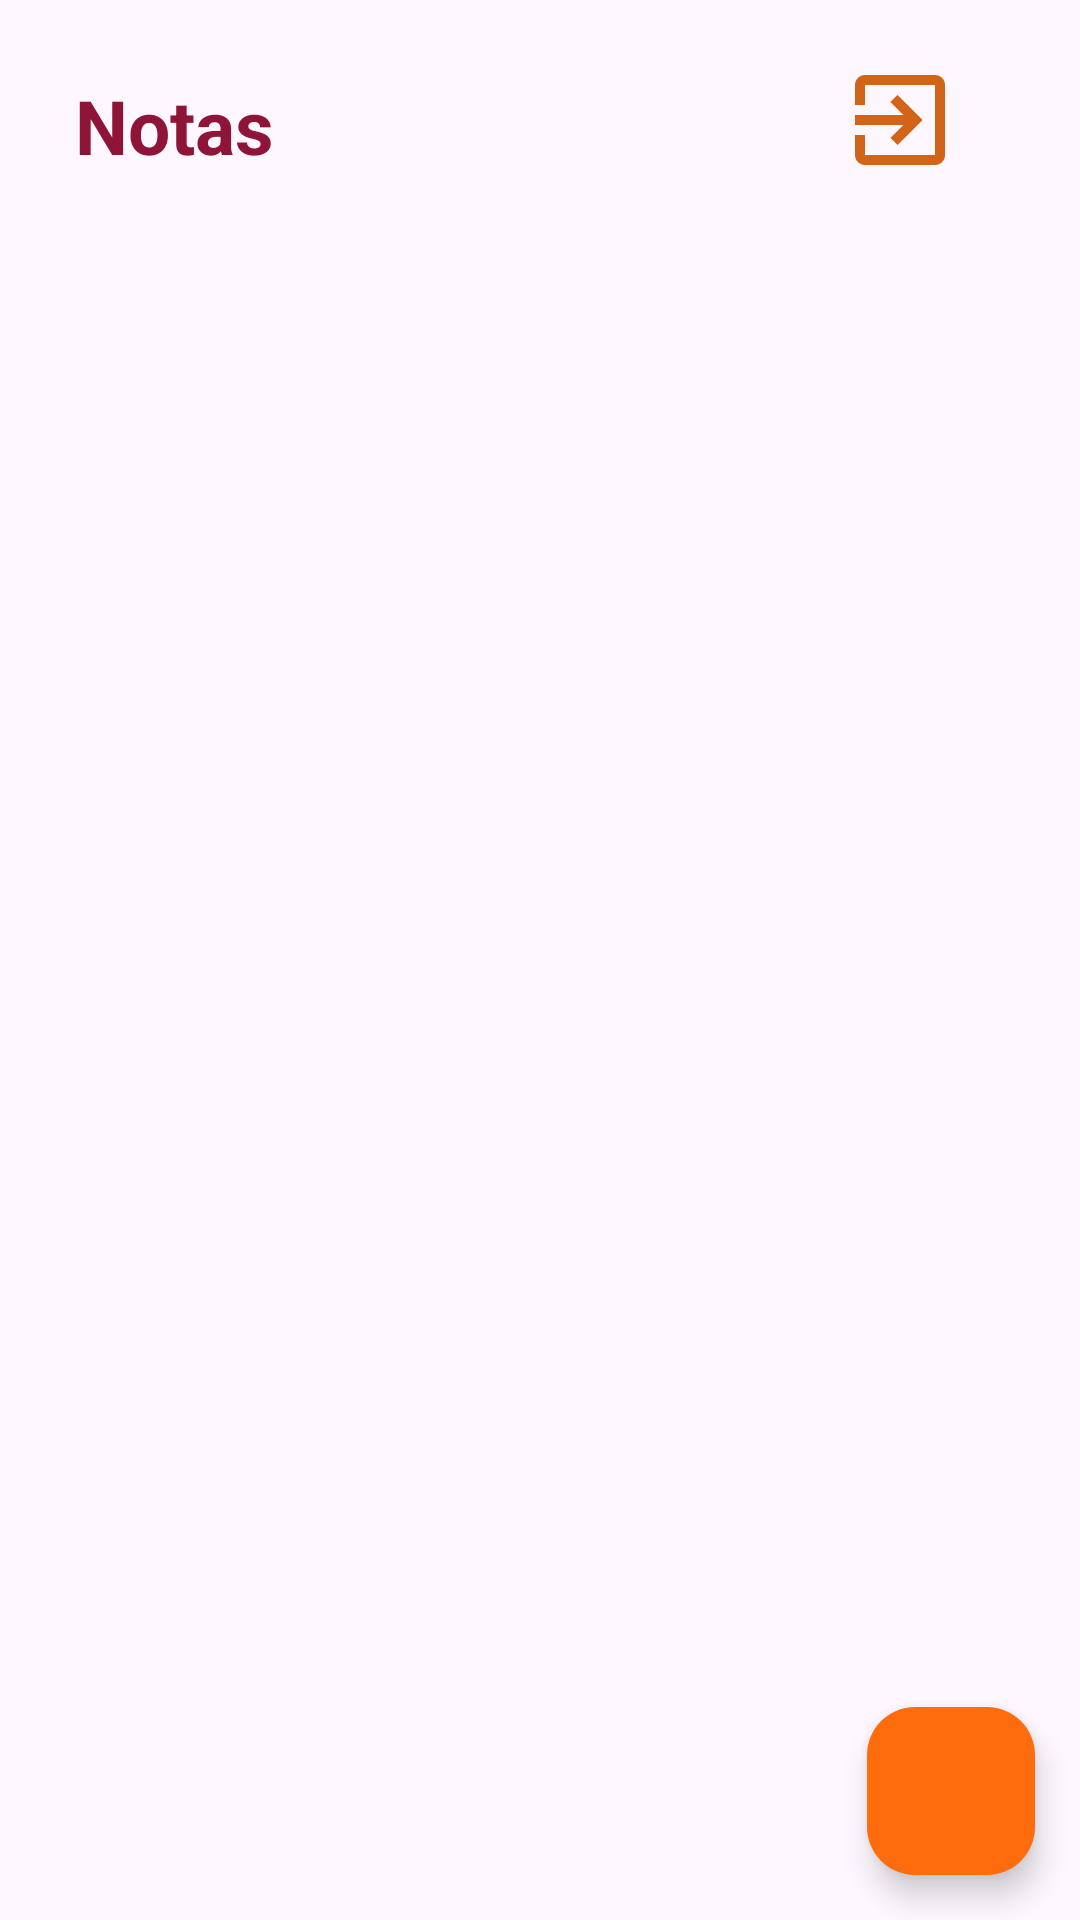

Icon click points for this 1080 x 1920 phone screenshot, format (x,y):
salir: (900,120)
